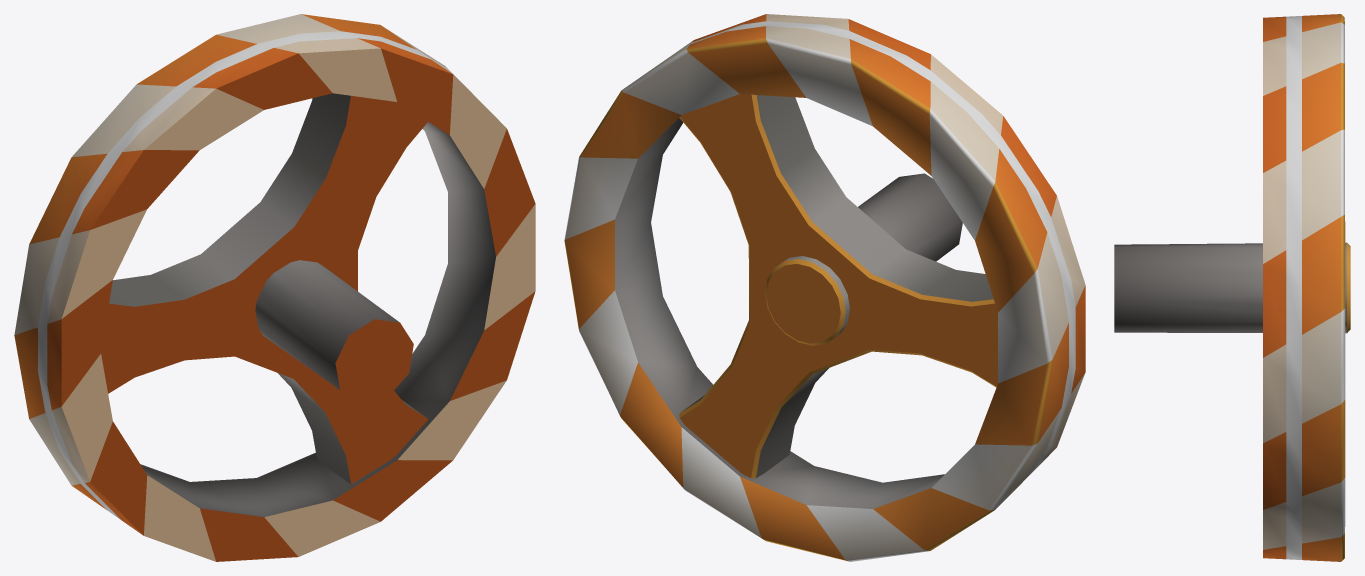
File: ChairLift.fbx
3 renders of one model, left to right at view 1: azimuth 30°, elevation 25°; view 2: azimuth 150°, elevation 25°; view 3: azimuth 270°, elevation 25°, orthographic. The views are drawn at different scales.
Visible parts, largest first — view 1: ChairliftWheel; view 2: ChairliftWheel; view 3: ChairliftWheel.
Boxes of the visible parts, x1,y1,x2,y2 form: ChairliftWheel: [14, 14, 535, 561]; ChairliftWheel: [564, 14, 1085, 561]; ChairliftWheel: [1114, 14, 1350, 561].
Bounding box in the file's own units: 267 × 263 × 115.
